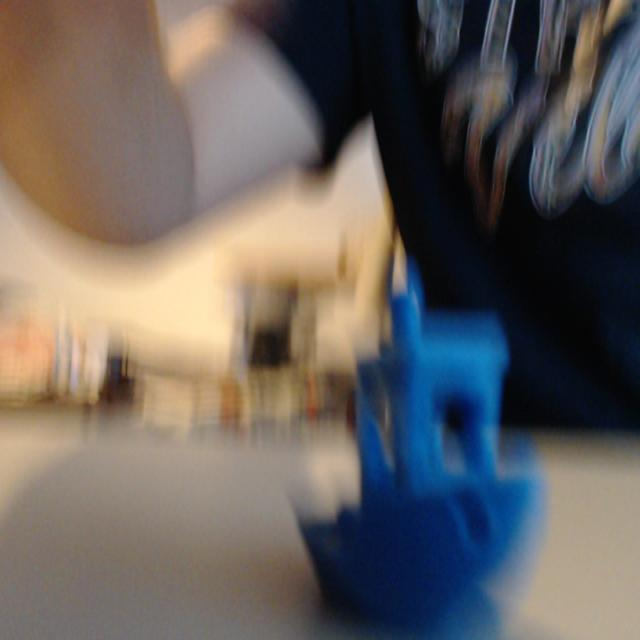benchy: (283, 239, 545, 625)
